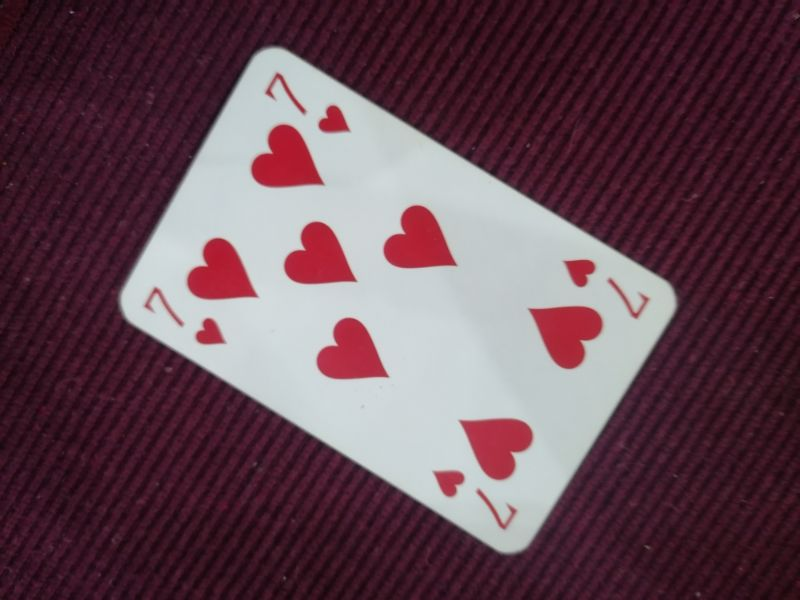7h: (559, 253, 656, 326), (140, 284, 236, 355), (263, 71, 356, 143), (428, 464, 519, 537)
